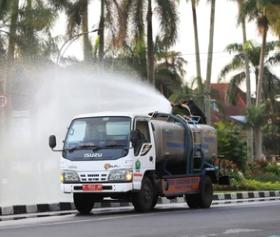vehicle: (50, 111, 230, 212)
